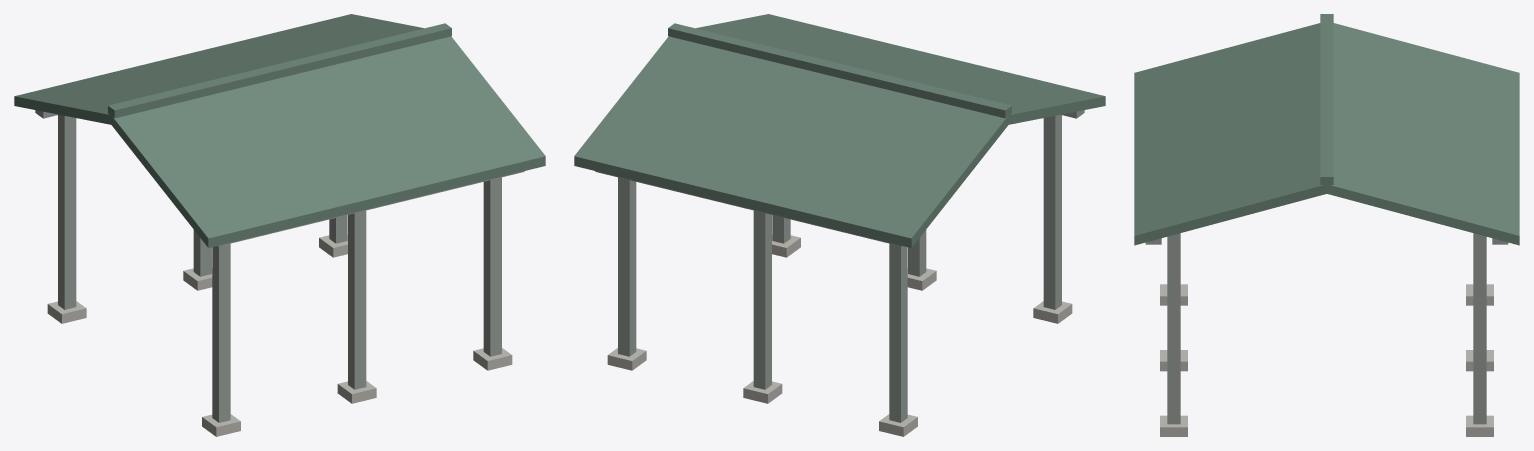
3 renders of one model, left to right at view 1: azimuth 30°, elevation 25°; view 2: azimuth 150°, elevation 25°; view 3: azimuth 270°, elevation 25°, orthographic.
Visible parts, largest first — view 1: osm533744381__roof, osm533744381__steel, osm533744381__base; view 2: osm533744381__roof, osm533744381__steel, osm533744381__base; view 3: osm533744381__roof, osm533744381__steel, osm533744381__base.
Part boxes in pixels (x1,y1,x2,y2): osm533744381__roof: [14, 14, 545, 247]; osm533744381__steel: [35, 110, 524, 422]; osm533744381__base: [47, 235, 512, 436]; osm533744381__roof: [574, 14, 1105, 247]; osm533744381__steel: [595, 110, 1084, 422]; osm533744381__base: [607, 235, 1072, 436]; osm533744381__roof: [1134, 14, 1519, 245]; osm533744381__steel: [1145, 233, 1508, 424]; osm533744381__base: [1160, 284, 1493, 436].
Bounding box in the file's own units: 4.39 × 3.39 × 4.38.
